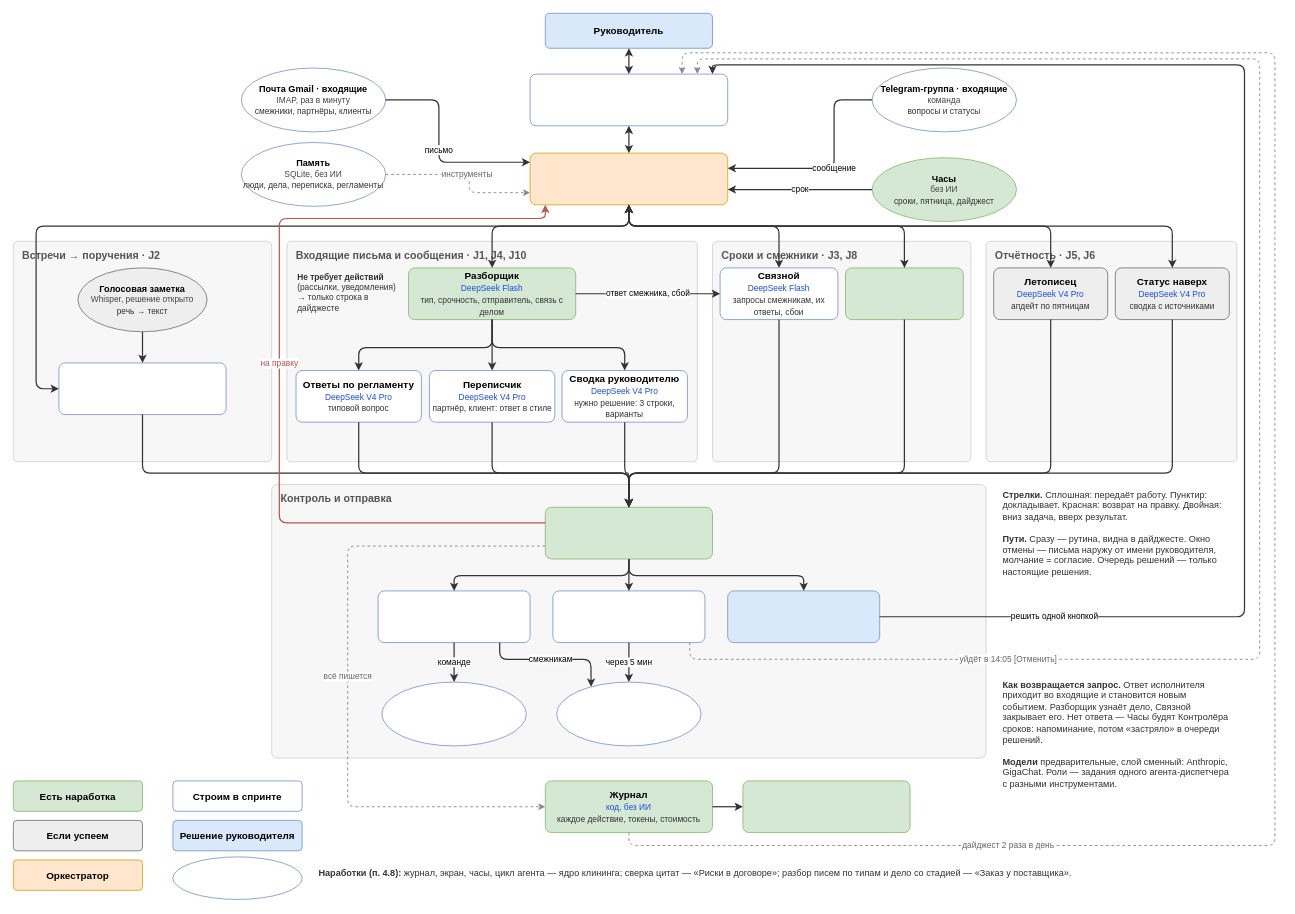
This 1295x914 diagram has some shape labels left out. The shapes that lost their labels are listed below. From the top down, each one's centre as x and y in pixels, then its label:
(628,99): Пульт руководителя Telegram-бот, без ИИ заметки, дайджест, отмена, решения
(628,178): Диспетчер агент, DeepSeek V4 Pro разбирает событие, раздаёт работу ролям
(904,293): Контролёр сроков код, без ИИ напоминает, ловит застрявшее
(142,388): Секретарь встреч DeepSeek V4 Pro заметка → поручения: кто, что, срок, цитата
(628,533): Контролёр правил код, без ИИ цитаты, получатели, обещания, выбор пути
(453,616): Сразу без ИИ рутина: команде и смежникам
(628,616): Окно отмены без ИИ наружу: уходит через 5 мин
(803,616): Очередь решений руководитель деньги, люди, нет фактов
(453,713): Telegram-группа · исходящие поручения, ответы, напоминания
(628,713): Почта Gmail · исходящие SMTP смежники, партнёры
(826,806): Веб-экран стенда :8080, без ИИ дела, журнал, метрики. Для жюри
(237,877): Овал — инструмент, канал
